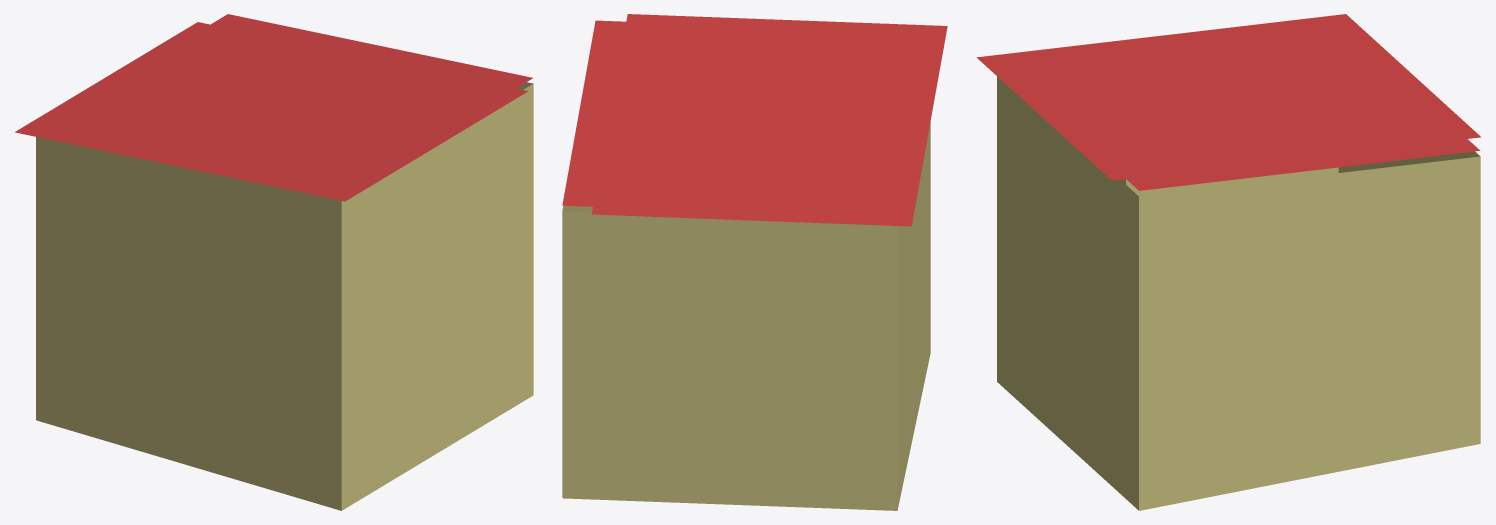
3 renders of one model, left to right at view 1: azimuth 30°, elevation 25°; view 2: azimuth 150°, elevation 25°; view 3: azimuth 270°, elevation 25°, orthographic.
Size of the model in its own units: 7.77 by 8.09 by 5.68.
